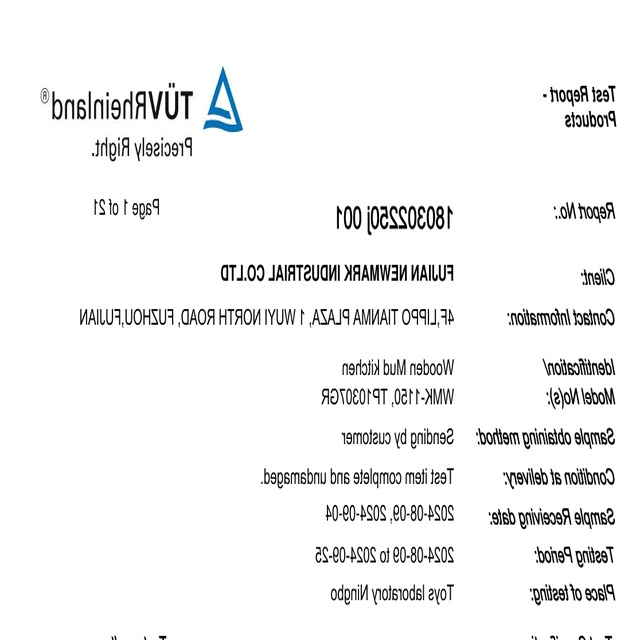tuv_rheinland: (38, 66, 248, 137)
